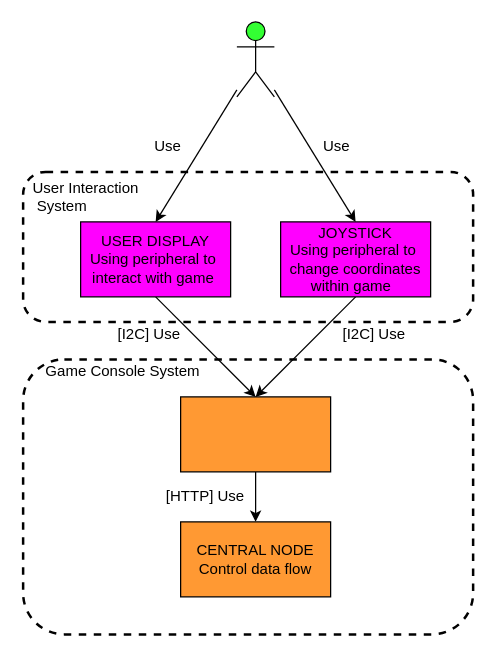
The diagram is 495 pixels wide and 658 high, and some of its shapes have lost their labels. Here are the shapes that lost their labels. From the top down, the centre of each, then its label:
the point at 255,59: Actor
the point at 255,434: CONTROLLER Access game data
